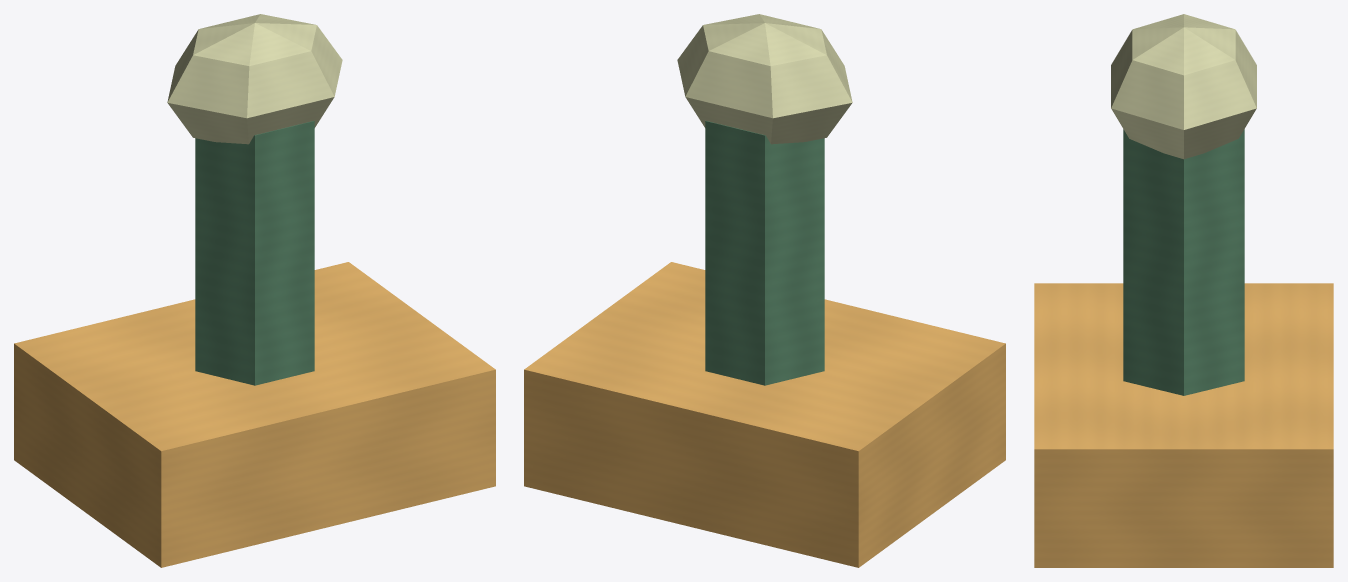
File: atlas100-s004-a05.lod1.glb
3 renders of one model, left to right at view 1: azimuth 30°, elevation 25°; view 2: azimuth 150°, elevation 25°; view 3: azimuth 270°, elevation 25°, orthographic.
Visible parts, largest first — view 1: atlas100-s004-a05:part-000, atlas100-s004-a05:part-001, atlas100-s004-a05:part-002; view 2: atlas100-s004-a05:part-000, atlas100-s004-a05:part-001, atlas100-s004-a05:part-002; view 3: atlas100-s004-a05:part-000, atlas100-s004-a05:part-001, atlas100-s004-a05:part-002.
Part boxes in pixels (left/top/right/bottom): atlas100-s004-a05:part-000: left=14, top=262, right=495, bottom=567; atlas100-s004-a05:part-001: left=195, top=120, right=314, bottom=385; atlas100-s004-a05:part-002: left=167, top=14, right=342, bottom=144; atlas100-s004-a05:part-000: left=524, top=262, right=1005, bottom=567; atlas100-s004-a05:part-001: left=705, top=120, right=824, bottom=385; atlas100-s004-a05:part-002: left=677, top=14, right=852, bottom=144; atlas100-s004-a05:part-000: left=1034, top=283, right=1333, bottom=567; atlas100-s004-a05:part-001: left=1123, top=129, right=1244, bottom=395; atlas100-s004-a05:part-002: left=1111, top=14, right=1256, bottom=159.
Size of the model in its own units: 0.4586 by 0.5897 by 0.3494.
Materials: 3 (3 with a texture image).
